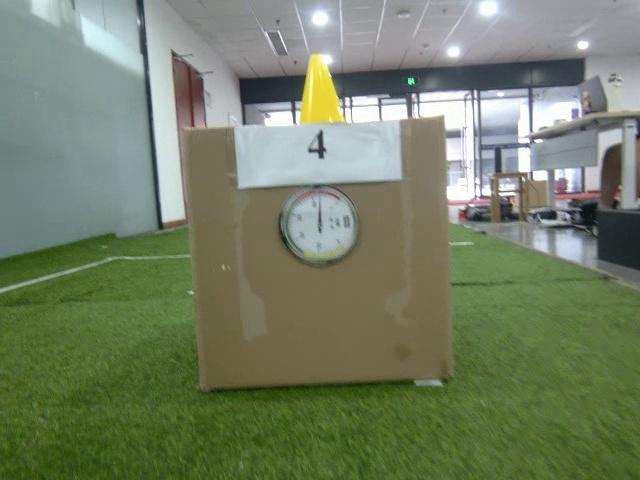Dashboard: (278, 185, 363, 268)
ssi: (304, 130, 330, 160), (343, 214, 352, 230)
yellow_barrel: (297, 52, 348, 128)
